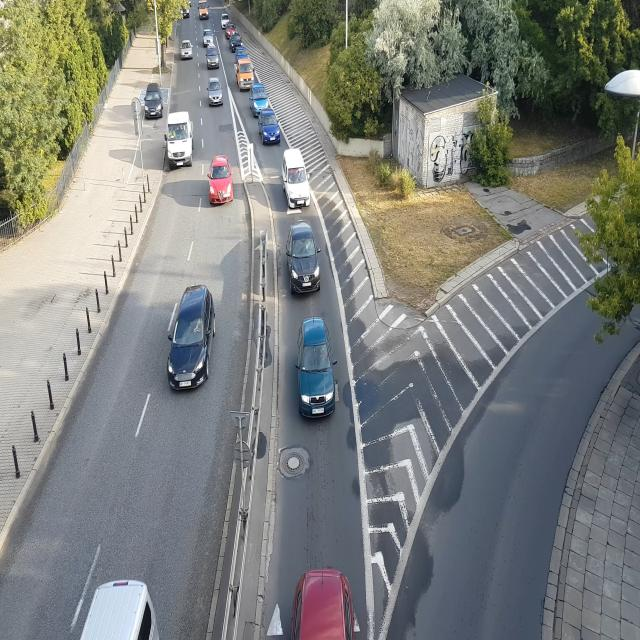car: (74, 566, 160, 640), (284, 558, 360, 640), (168, 286, 216, 392), (294, 312, 338, 420), (287, 222, 320, 292), (282, 152, 311, 210), (166, 111, 193, 169), (207, 156, 232, 207), (258, 110, 282, 147), (142, 88, 164, 119), (248, 82, 268, 116), (236, 60, 254, 89), (208, 78, 225, 107), (179, 0, 193, 22), (198, 0, 211, 21), (181, 41, 195, 60), (207, 49, 220, 69), (203, 26, 214, 48), (232, 32, 243, 52), (219, 12, 229, 28)
